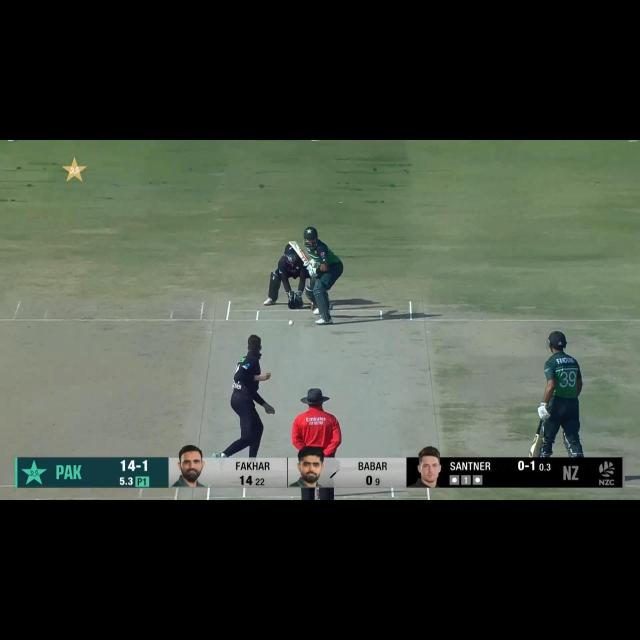bat: (286, 241, 308, 263), (527, 434, 540, 458)
toe: (288, 241, 298, 246)
